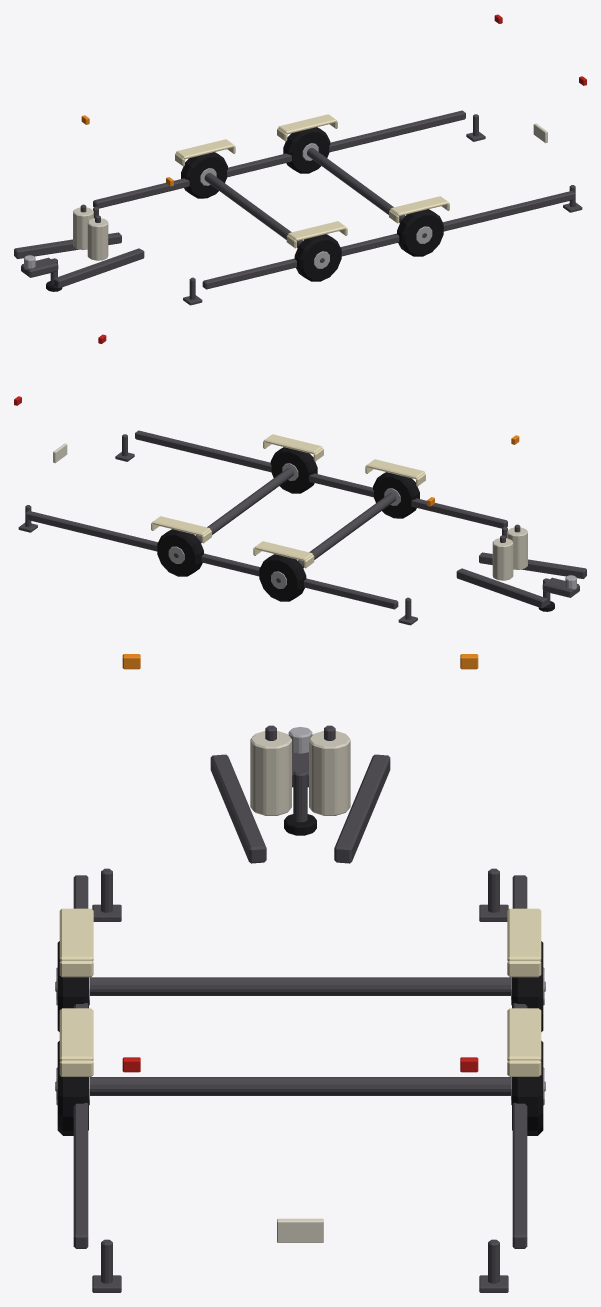
File: trailer_rig.glb
3 renders of one model, top to bottom at view 1: azimuth 30°, elevation 25°; view 2: azimuth 150°, elevation 25°; view 3: azimuth 270°, elevation 25°, orthographic. The views are drawn at different scales.
Parts seen in each view (by area): view 1: trailer_rig; view 2: trailer_rig; view 3: trailer_rig.
Part boxes in pixels (bbox=[...]): trailer_rig: bbox=[14, 14, 586, 305]; trailer_rig: bbox=[14, 334, 586, 625]; trailer_rig: bbox=[55, 654, 545, 1292].
Size of the model in its own units: 10.63 by 2.42 by 4.36.
